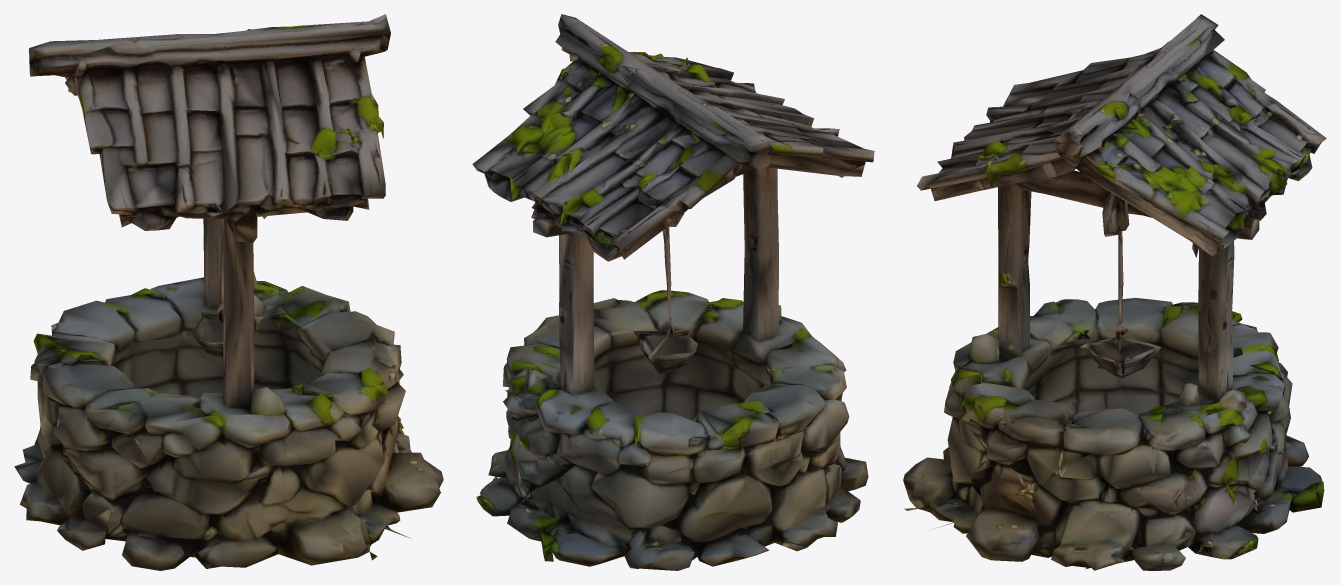
File: well.glb
The picture shows the model from 3 angles, left to right: view 1: azimuth 30°, elevation 25°; view 2: azimuth 150°, elevation 25°; view 3: azimuth 270°, elevation 25°; orthographic projection. The views are drawn at different scales.
Visible parts, largest first — view 1: tripo_node_c0dfce78-d387-44ca-8fc5-7f53982c4c9c; view 2: tripo_node_c0dfce78-d387-44ca-8fc5-7f53982c4c9c; view 3: tripo_node_c0dfce78-d387-44ca-8fc5-7f53982c4c9c.
Boxes of the visible parts, x1,y1,x2,y2 form: tripo_node_c0dfce78-d387-44ca-8fc5-7f53982c4c9c: (14, 14, 443, 570); tripo_node_c0dfce78-d387-44ca-8fc5-7f53982c4c9c: (472, 14, 874, 570); tripo_node_c0dfce78-d387-44ca-8fc5-7f53982c4c9c: (903, 14, 1326, 570).
Size of the model in its own units: 0.8305 by 0.9989 by 0.8957.
Materials: 1 (1 with a texture image).
